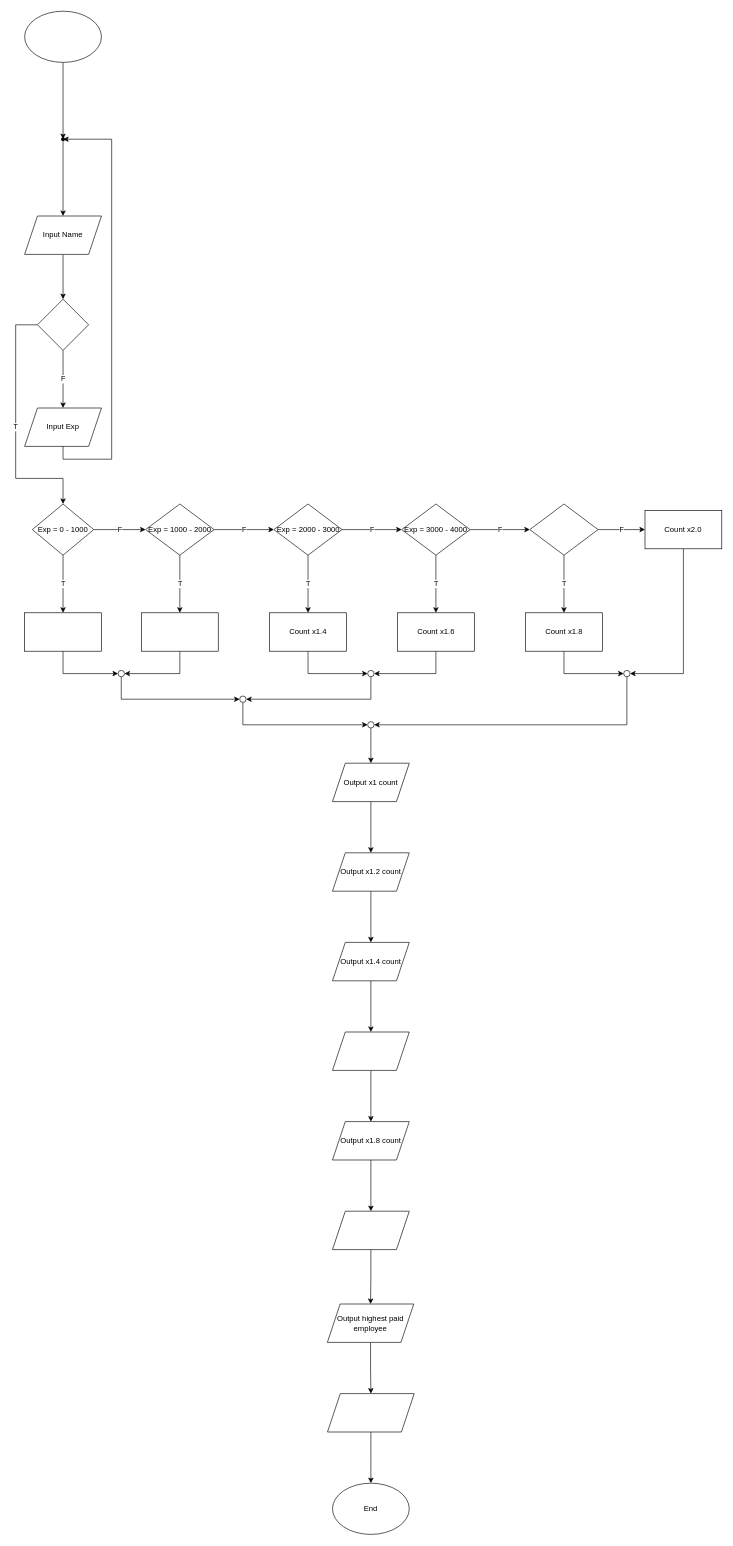
This 733x1546 diagram has some shape labels left out. The box of each missing label's shape, as (x1, y1, x2, y2) in pixels:
Count x1: (24, 612, 101, 651)
Count x1.2: (141, 612, 218, 651)
Exp = 4000 - 5000: (529, 503, 598, 555)
Name = -1: (37, 299, 89, 350)
Output lowest paid employee: (327, 1393, 414, 1432)
Output x1.6 count: (332, 1031, 409, 1070)
Output x2.0 count: (332, 1211, 409, 1250)
Start: (24, 11, 101, 62)
